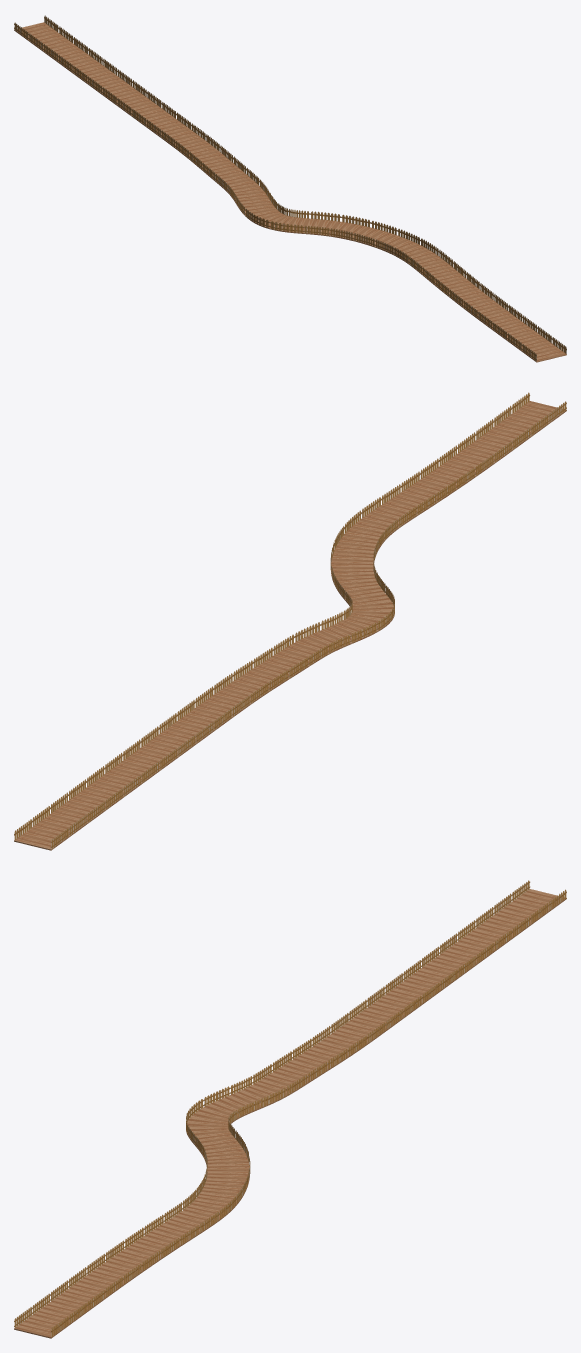
File: TRACK3.fbx
3 renders of one model, top to bottom at view 1: azimuth 30°, elevation 25°; view 2: azimuth 150°, elevation 25°; view 3: azimuth 330°, elevation 25°, orthographic. The views are drawn at different scales.
Parts seen in each view (by area): view 1: Cube.003, Cube.004; view 2: Cube.003, Cube.004; view 3: Cube.003, Cube.004.
Boxes of the visible parts, box(x1,y1,x2,y2) form: Cube.003: box(14, 22, 566, 362); Cube.004: box(14, 15, 566, 360); Cube.003: box(14, 401, 566, 850); Cube.004: box(14, 392, 566, 848); Cube.003: box(14, 889, 566, 1338); Cube.004: box(14, 880, 566, 1336).
Size of the model in its own units: 1751 by 140 by 13734.
2 materials, 2 textured.
